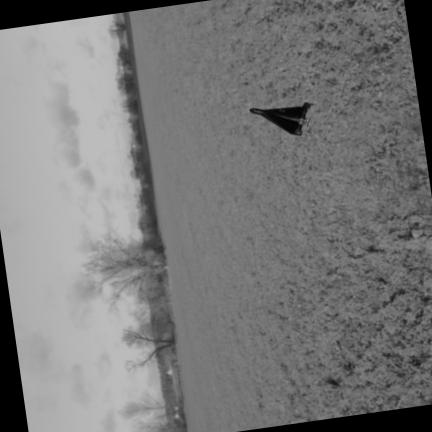Shahed: (249, 101, 310, 134)
